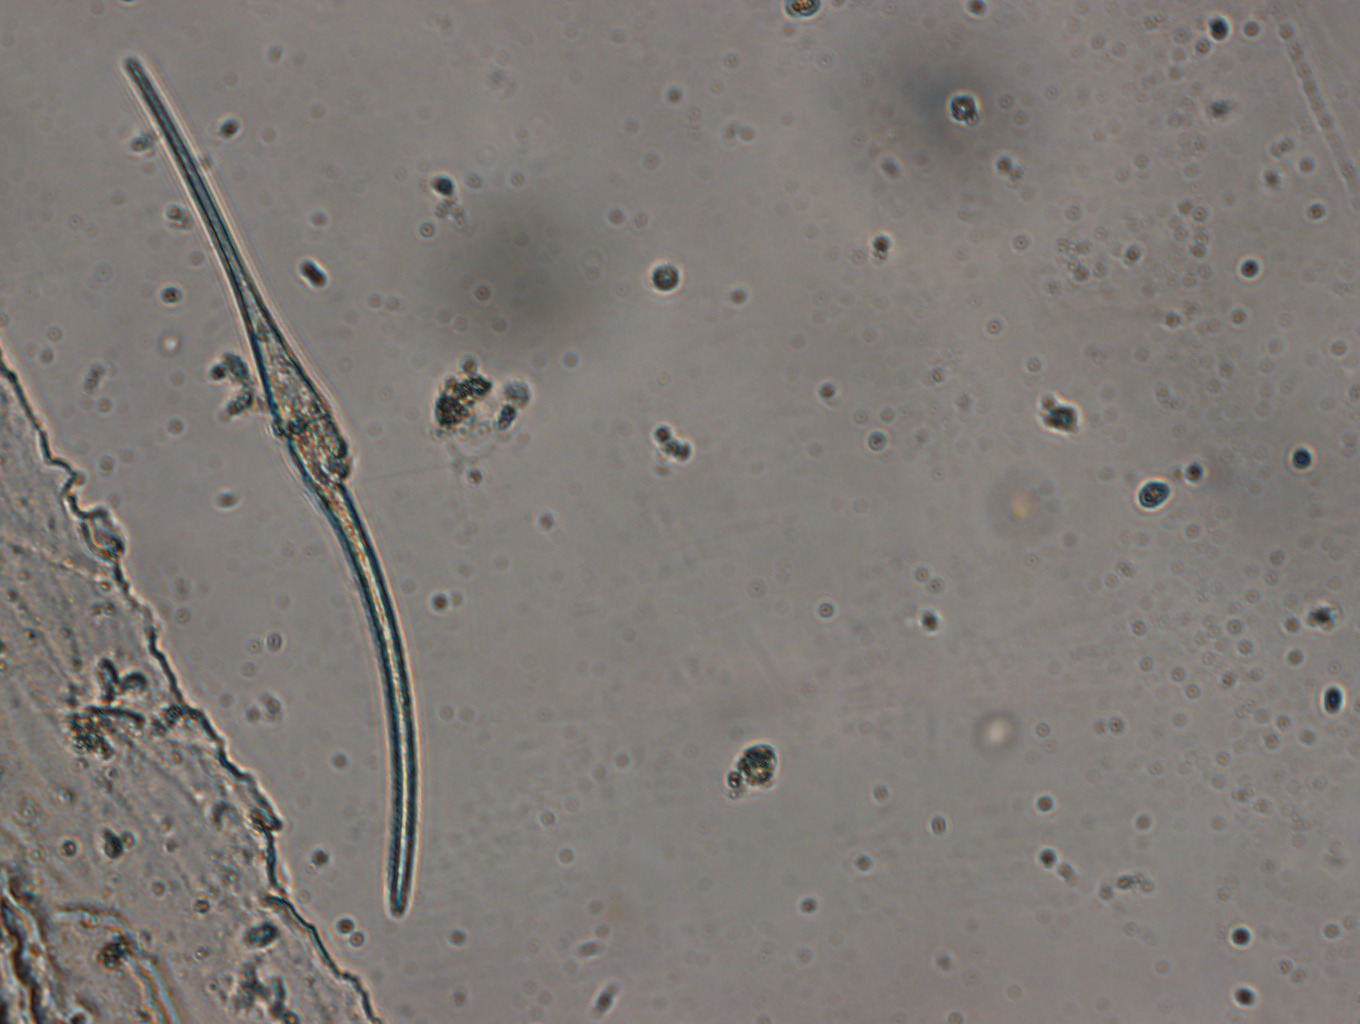ceratium fusus: (123, 53, 421, 918)
